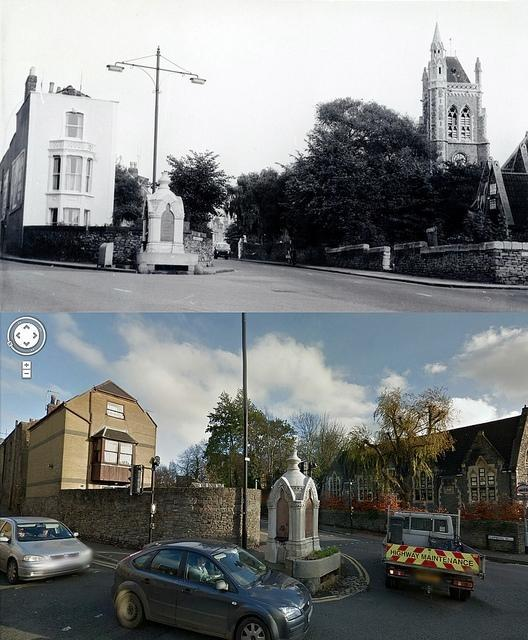car: (109, 538, 313, 640), (0, 516, 94, 582), (214, 242, 231, 260)
truck: (382, 502, 486, 602), (216, 243, 231, 259)
